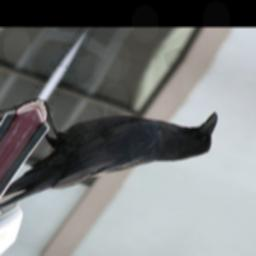Crow: (0, 60, 231, 256)
